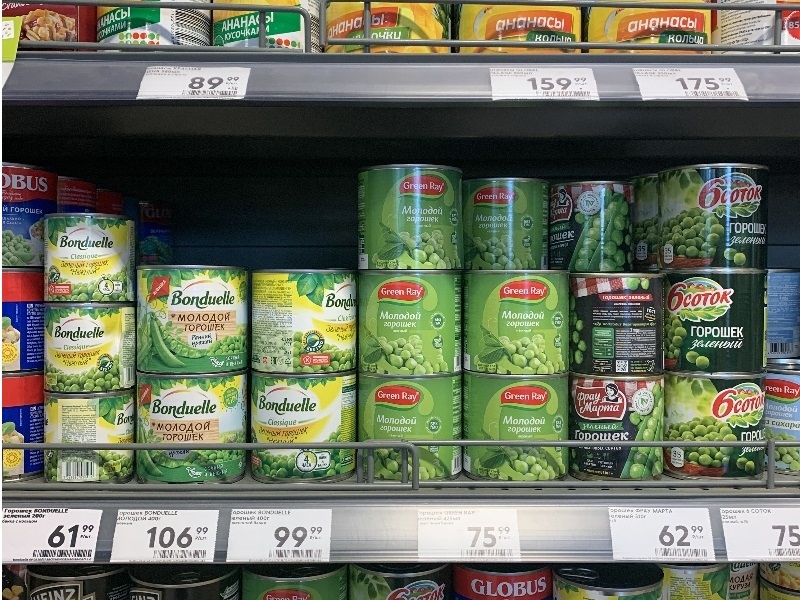peas: (133, 362, 257, 487), (457, 366, 577, 490), (349, 160, 477, 276), (656, 156, 774, 277), (460, 263, 579, 380), (248, 265, 367, 379), (135, 263, 254, 376), (353, 268, 473, 380), (661, 266, 773, 378), (31, 205, 146, 310), (35, 295, 141, 397)
